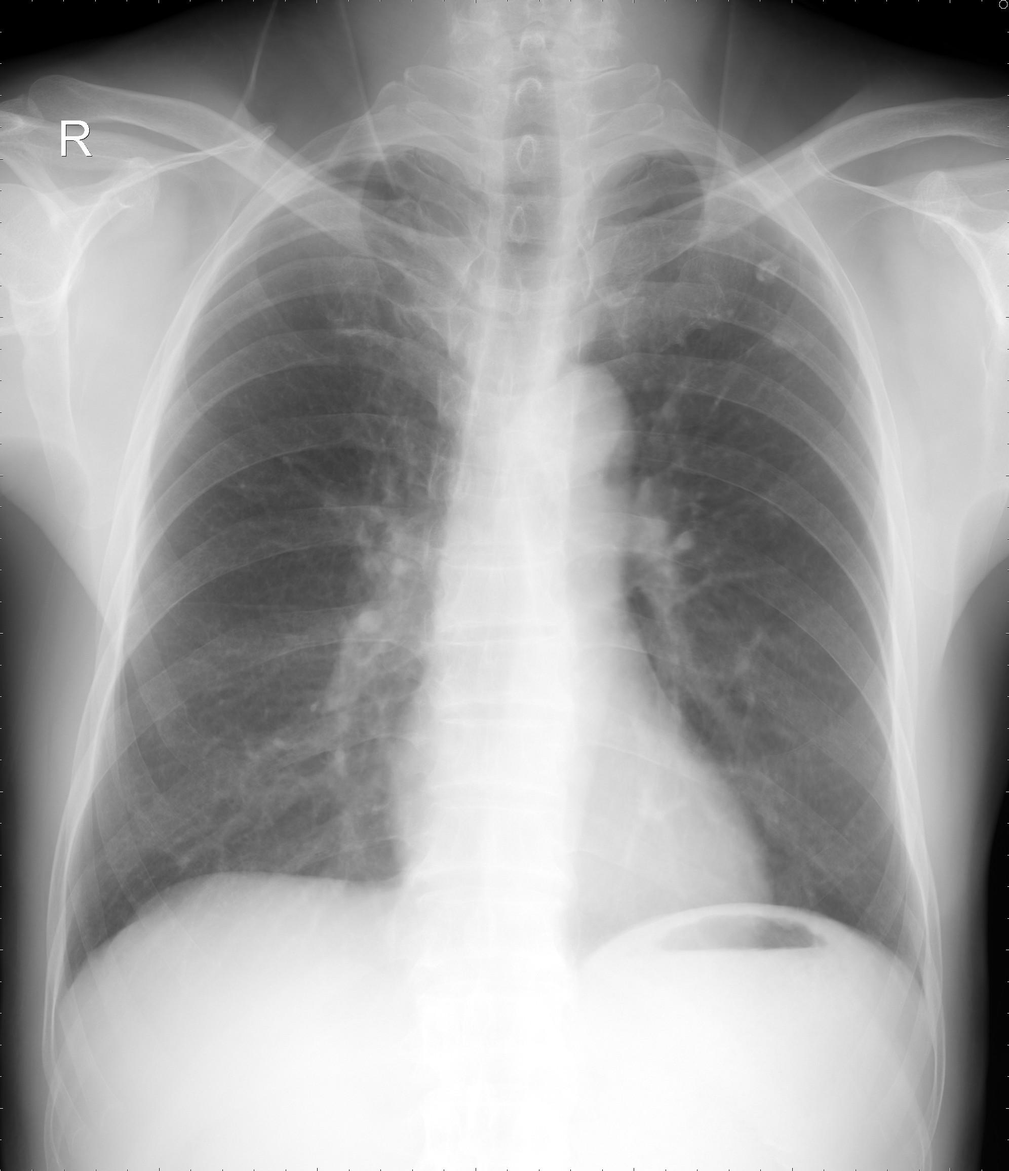Pleural thickening: (346, 141, 416, 163)
Pulmonary fibrosis: (755, 300, 799, 353), (755, 239, 794, 285)
